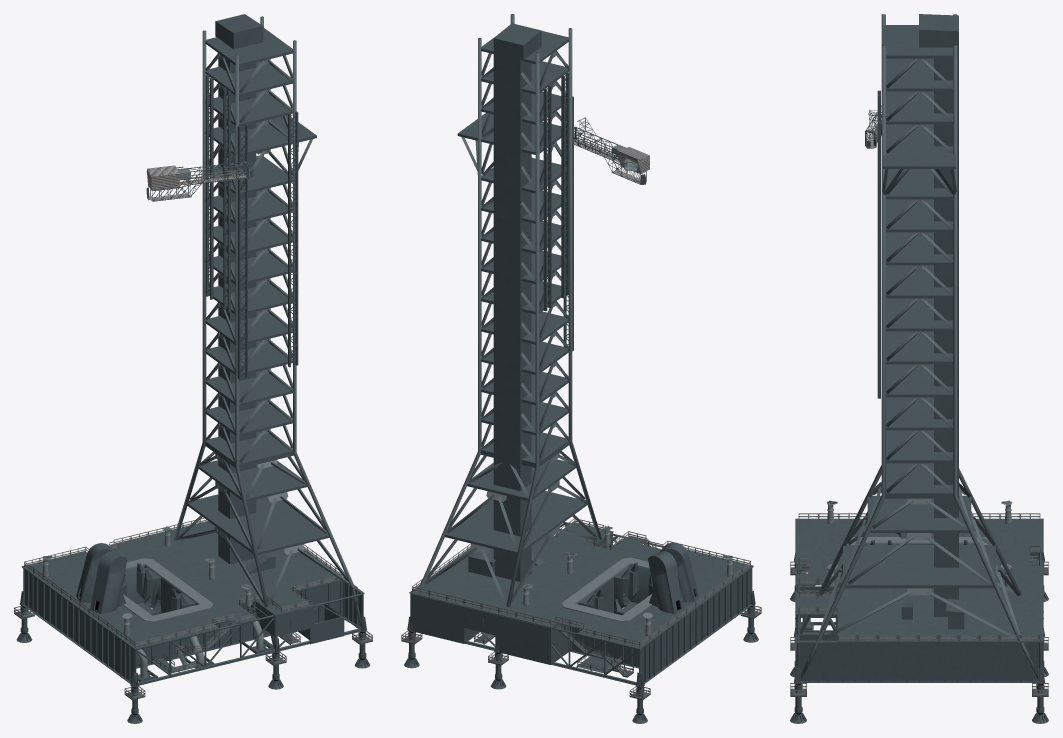
3 views of the same model, side by side, from view 1: azimuth 30°, elevation 25°; view 2: azimuth 150°, elevation 25°; view 3: azimuth 270°, elevation 25° (orthographic). The views are drawn at different scales.
Visible parts, largest first — view 1: ML_HP; view 2: ML_HP; view 3: ML_HP.
Boxes of the visible parts, left/top/right/bottom form: ML_HP: left=14, top=14, right=372, bottom=723; ML_HP: left=401, top=14, right=761, bottom=723; ML_HP: left=790, top=14, right=1048, bottom=723.
Bounding box in the file's own units: 0.5131 × 1.24 × 0.4365.
2 materials, 2 textured.
